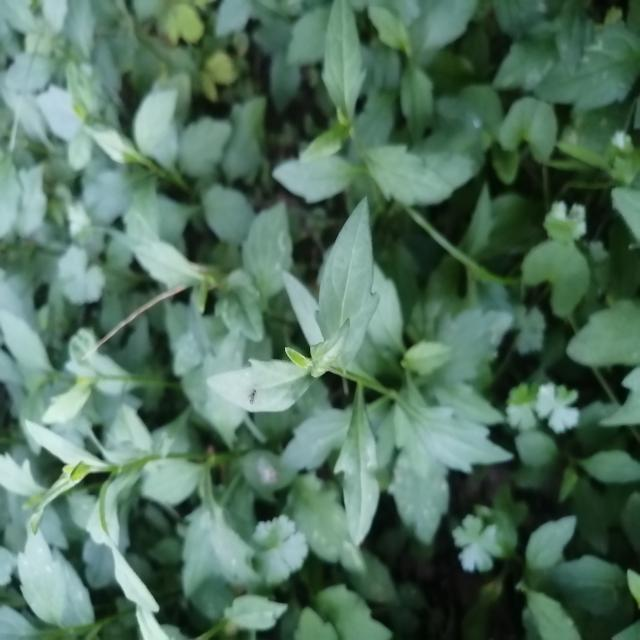Indian aster: (239, 226, 472, 514), (21, 327, 214, 624)
